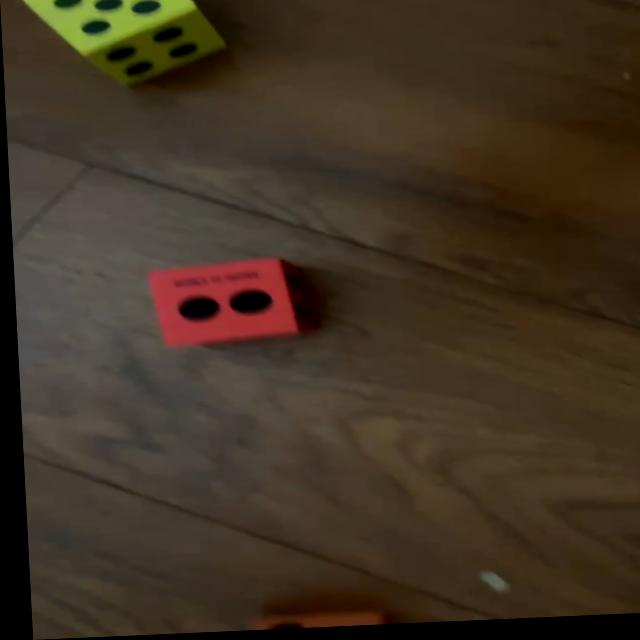cube: (146, 260, 301, 350)
